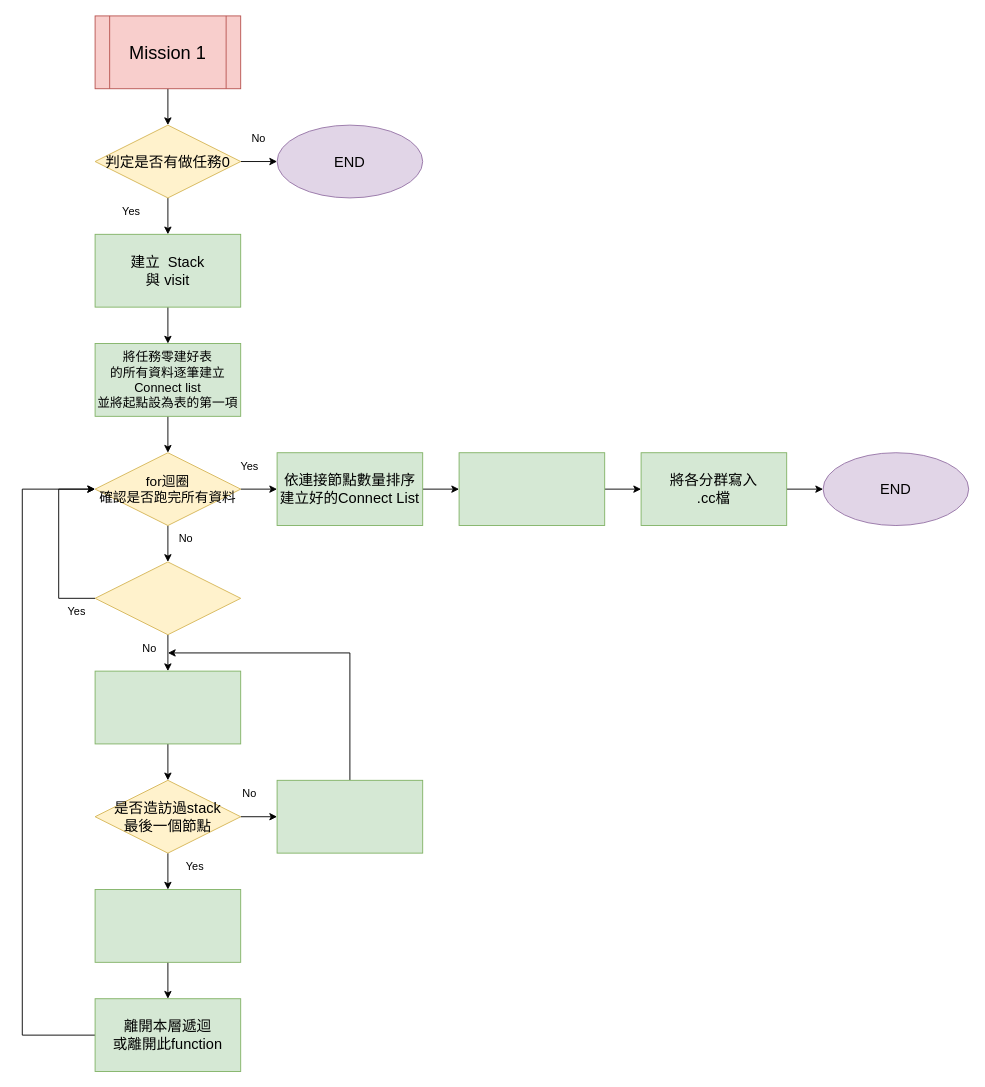
Some shapes in this 985 by 1087 pixel diagram are drawn without their labels. Here are the shapes that lost their labels. From the top down, the centre of each, then its label:
At (x=531, y=489): "印出分群數與 各群內的節點量".
At (x=167, y=598): "是否造訪過此節點".
At (x=167, y=707): "將此節點內所有 有連接的節點 確認是否造訪過， 無則並放入stack".
At (x=349, y=816): "將此節點放進 visit 並遞迴此節點".
At (x=167, y=925): "將stack最後一項pop 並放入Connect list".
